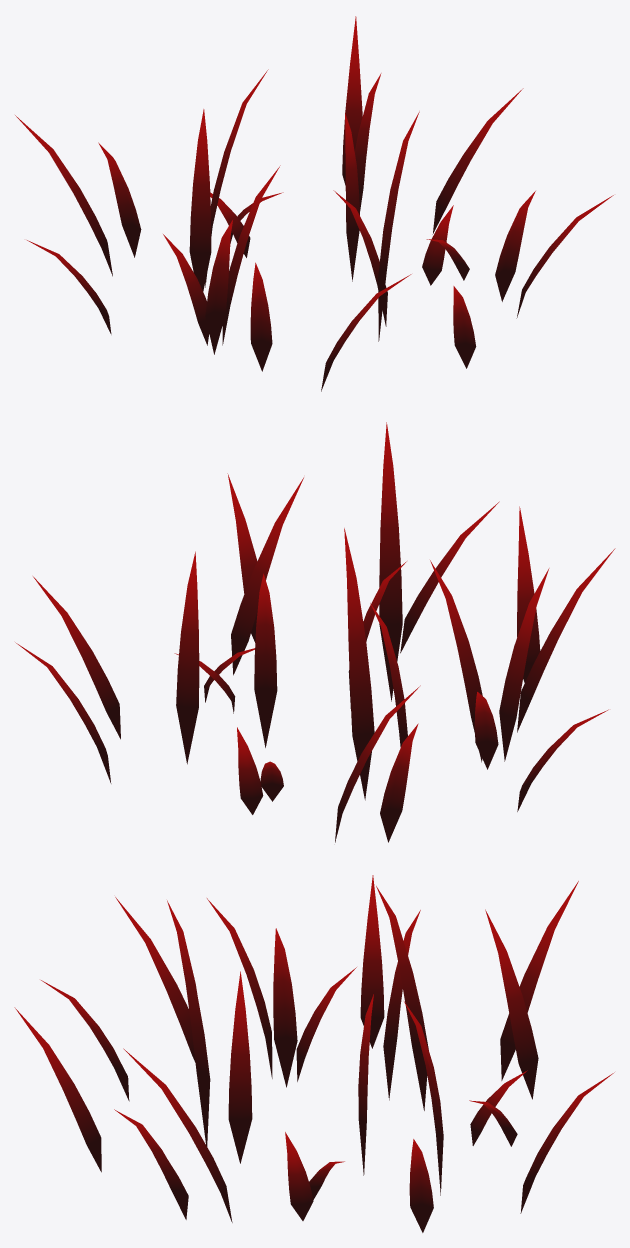
Rendered from grass.fbx.
3 views of the same model, one above another, from view 1: azimuth 30°, elevation 25°; view 2: azimuth 150°, elevation 25°; view 3: azimuth 270°, elevation 25° (orthographic). The views are drawn at different scales.
Parts seen in each view (by area): view 1: grass; view 2: grass; view 3: grass.
Boxes of the visible parts, x1,y1,x2,y2 form: grass: (15,16,613,391); grass: (15,422,615,842); grass: (14,875,614,1232).
Size of the model in its own units: 3.64 by 1.63 by 3.34.
